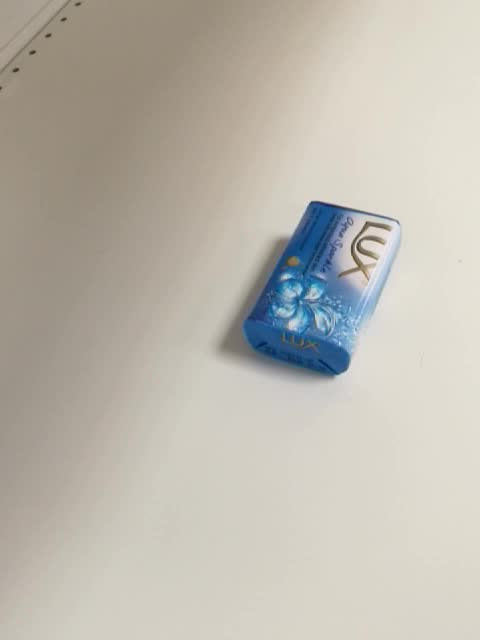soap: (241, 199, 405, 377)
